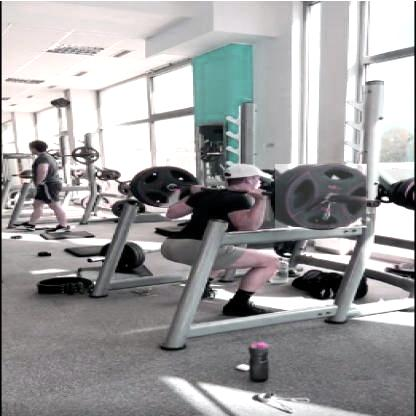barbell: (276, 164, 368, 230)
